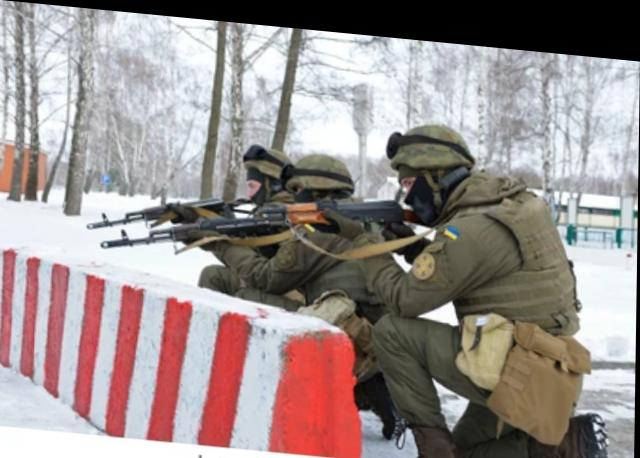other: (368, 118, 578, 452), (275, 154, 404, 319), (221, 141, 304, 283)
